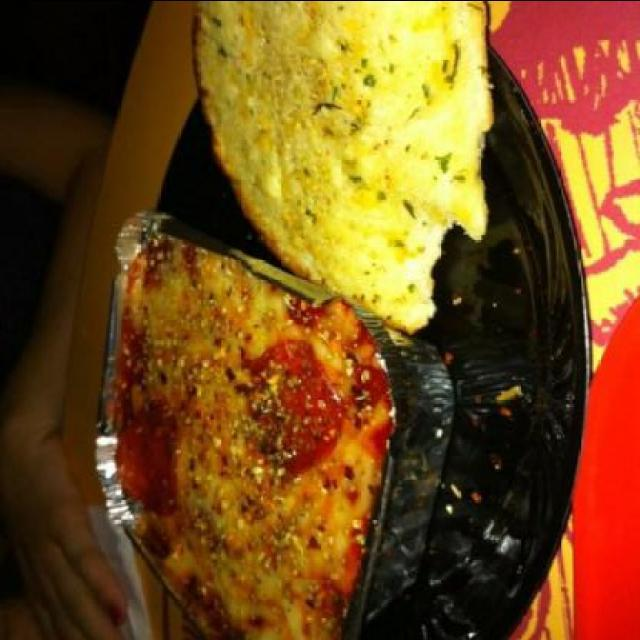Lasagna: (106, 286, 398, 597)
